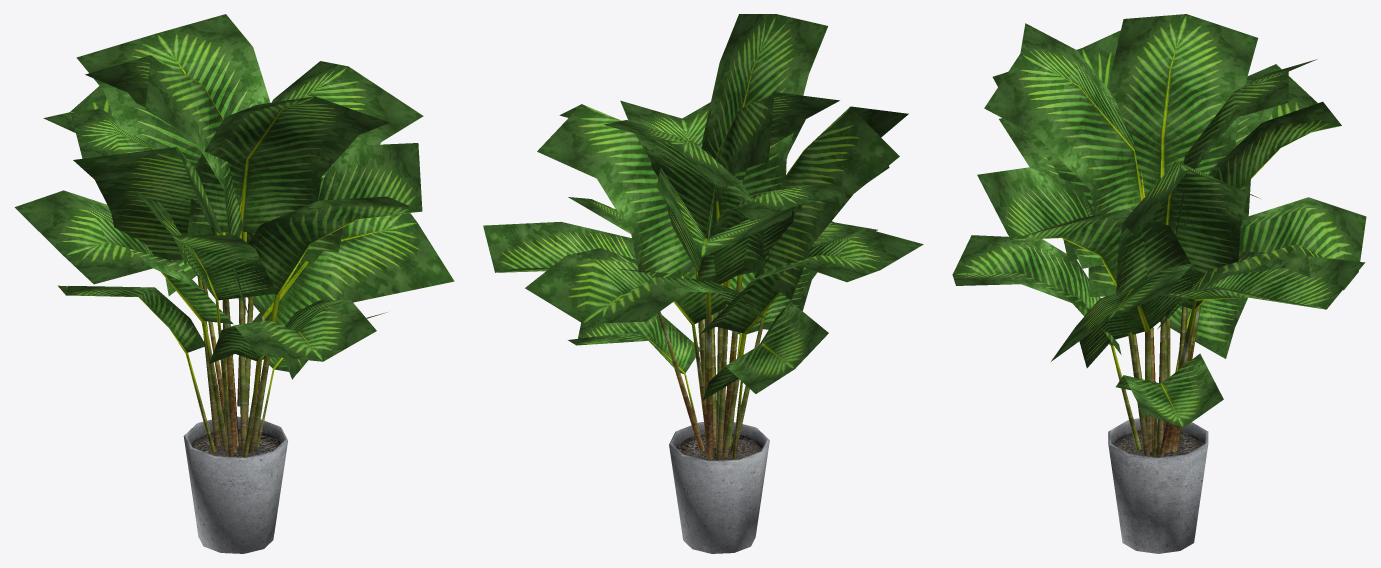
Rendered from Furniture_foliageplant_01_LOD1.fbx.
3 views of the same model, side by side, from view 1: azimuth 30°, elevation 25°; view 2: azimuth 150°, elevation 25°; view 3: azimuth 270°, elevation 25° (orthographic). The views are drawn at different scales.
Visible parts, largest first — view 1: foliageplant_01_B1, foliageplant_01_A; view 2: foliageplant_01_B1, foliageplant_01_A; view 3: foliageplant_01_B1, foliageplant_01_A.
Boxes of the visible parts, left/top/right/bottom form: foliageplant_01_B1: left=14, top=14, right=454, bottom=457; foliageplant_01_A: left=183, top=416, right=287, bottom=553; foliageplant_01_B1: left=483, top=14, right=923, bottom=460; foliageplant_01_A: left=669, top=422, right=769, bottom=553; foliageplant_01_B1: left=952, top=14, right=1366, bottom=457; foliageplant_01_A: left=1108, top=418, right=1208, bottom=553.
Bounding box in the file's own units: 1.42 × 1.87 × 1.43.
2 materials, 2 textured.
